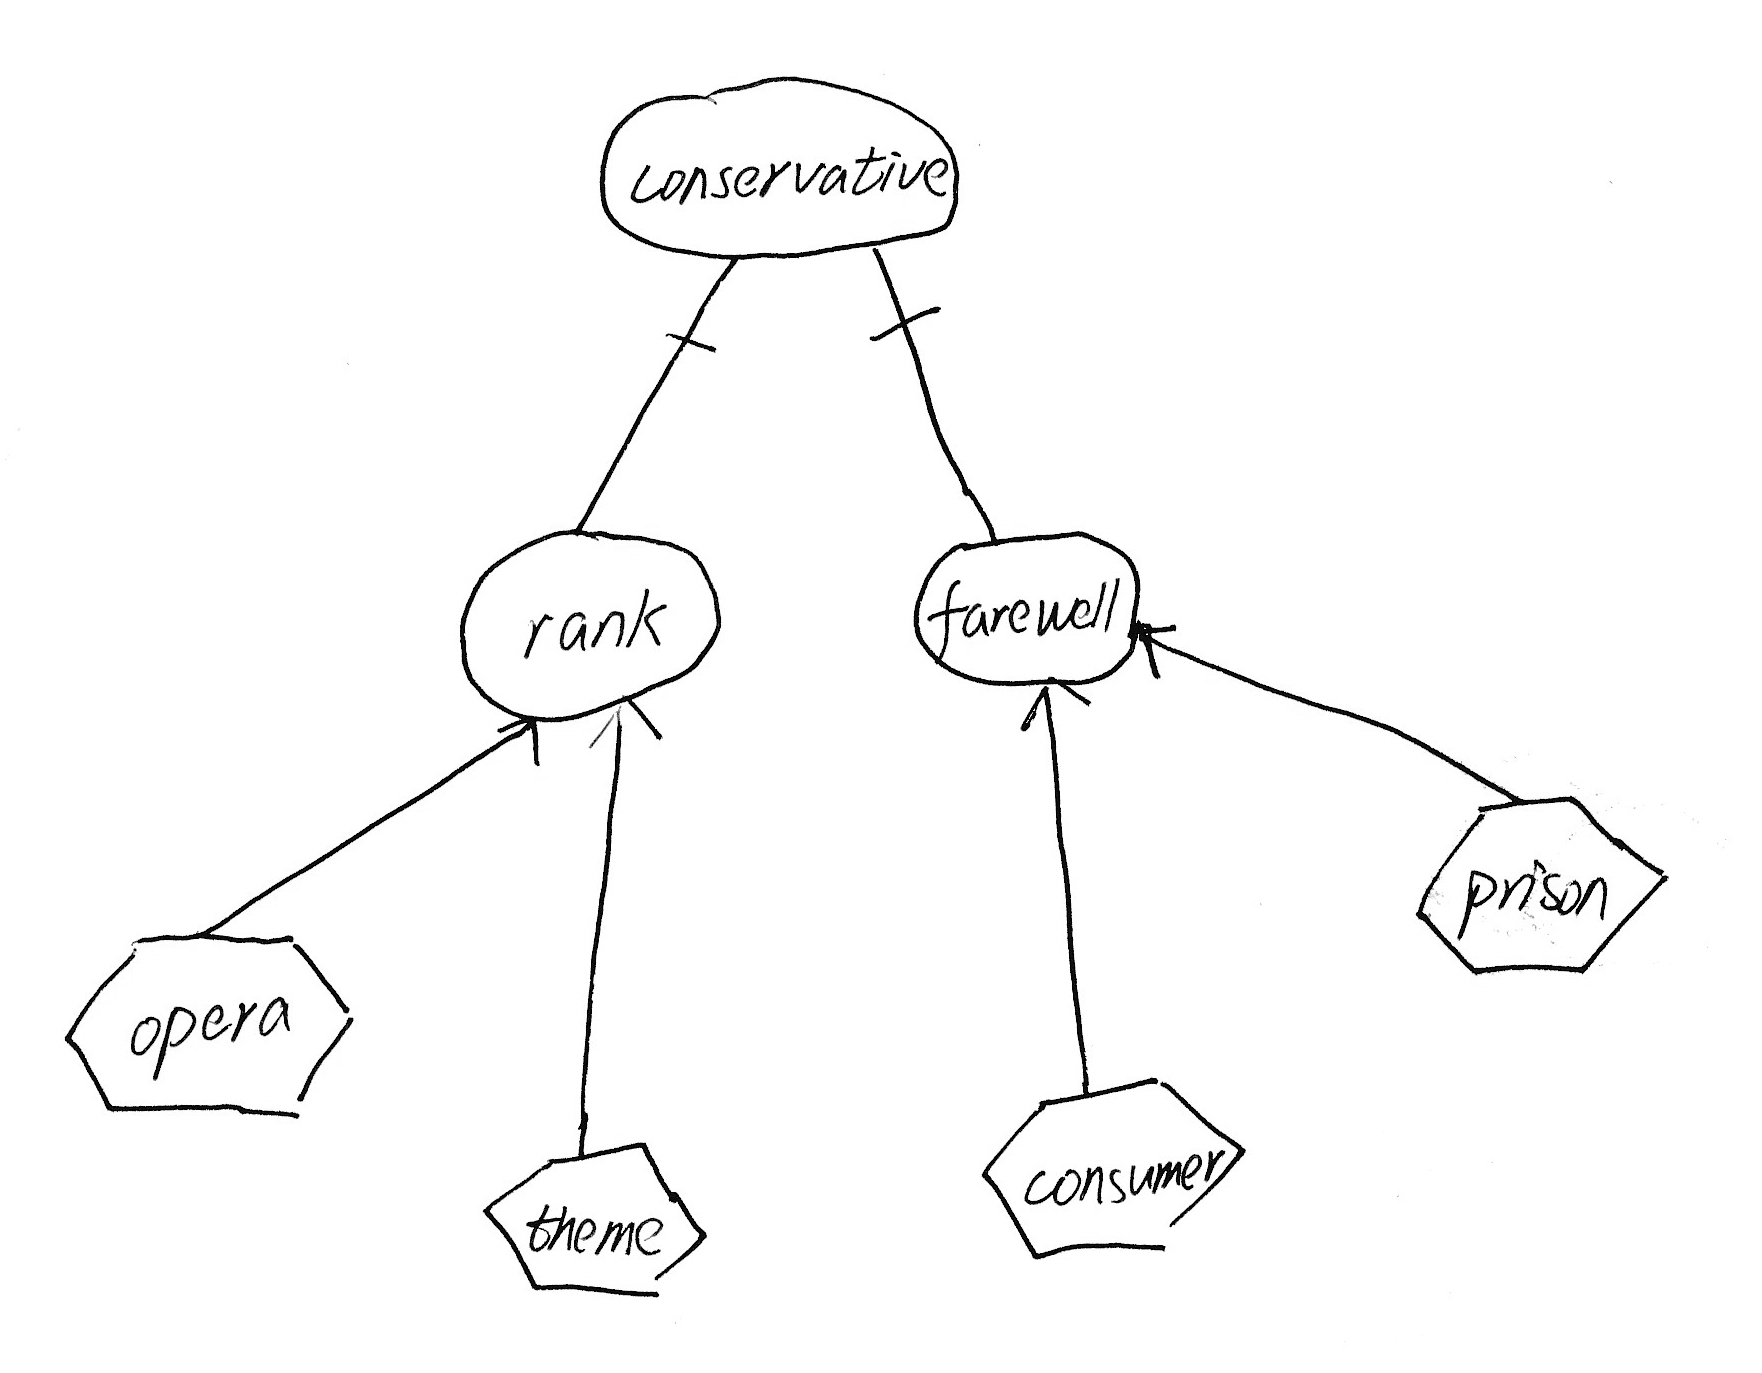and: (852, 235, 955, 358), (661, 250, 749, 370)
arrow: (584, 689, 674, 757), (1015, 671, 1097, 739), (1118, 611, 1184, 686), (483, 705, 555, 771)
goal: (581, 60, 980, 270), (451, 518, 729, 737), (900, 516, 1158, 699)
task: (53, 915, 365, 1128), (965, 1066, 1261, 1270), (1406, 787, 1682, 990), (473, 1127, 717, 1306)
